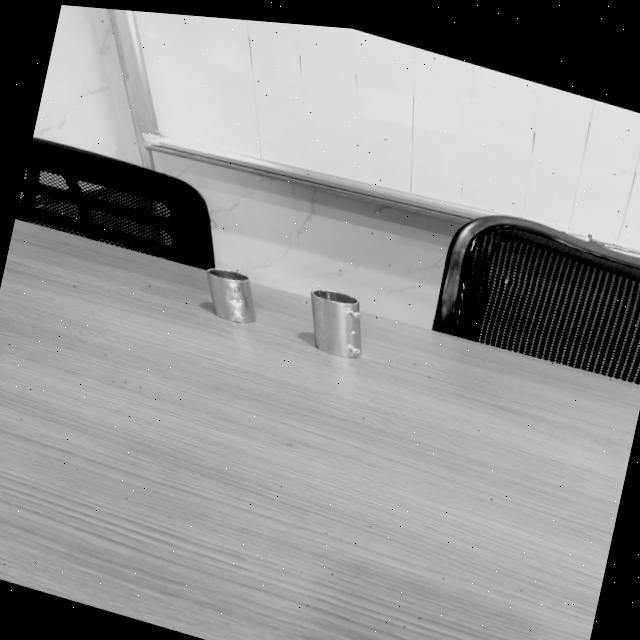Co_Lon: (310, 288, 362, 359)
Co_Nho: (205, 262, 256, 328)
